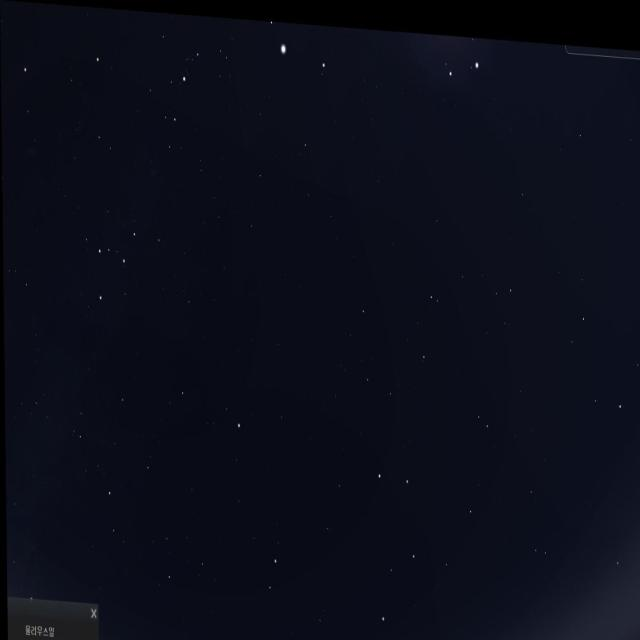ursa_major: (359, 419, 428, 640)
